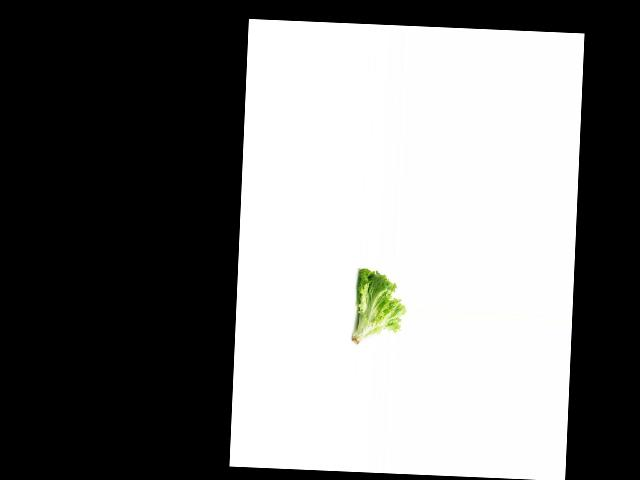lettuce: (350, 268, 408, 348)
